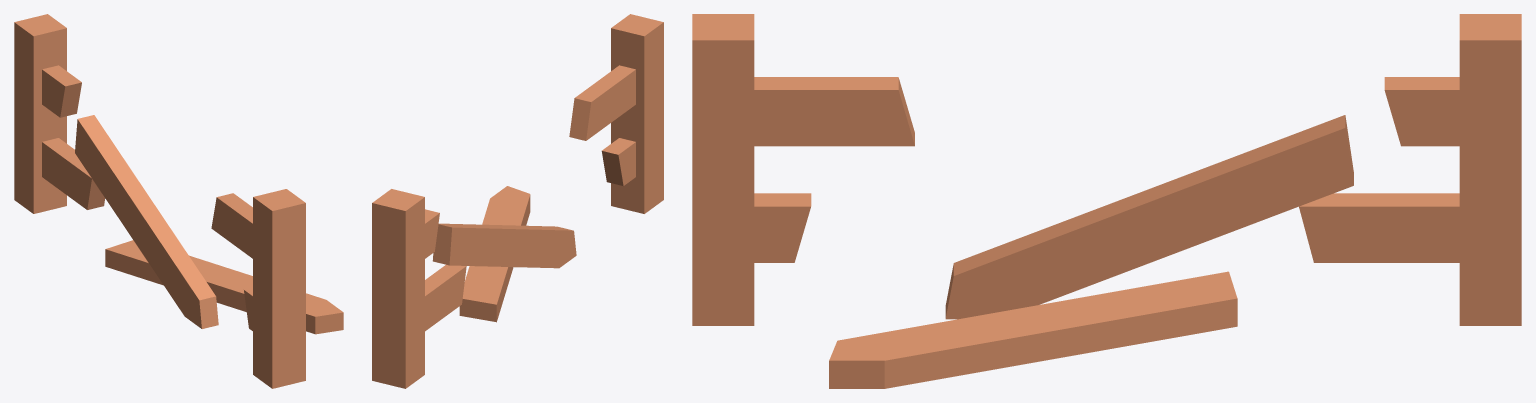
Rendered from fenceBroken.glb.
3 views of the same model, side by side, from view 1: azimuth 30°, elevation 25°; view 2: azimuth 150°, elevation 25°; view 3: azimuth 270°, elevation 25° (orthographic). The views are drawn at different scales.
Visible parts, largest first — view 1: fenceBroken; view 2: fenceBroken; view 3: fenceBroken.
Boxes of the visible parts, x1=… form: fenceBroken: x1=14, y1=14, x2=343, y2=388; fenceBroken: x1=372, y1=14, x2=663, y2=388; fenceBroken: x1=692, y1=14, x2=1521, y2=388.
Bounding box in the file's own units: 0.7642 × 1.14 × 3.
